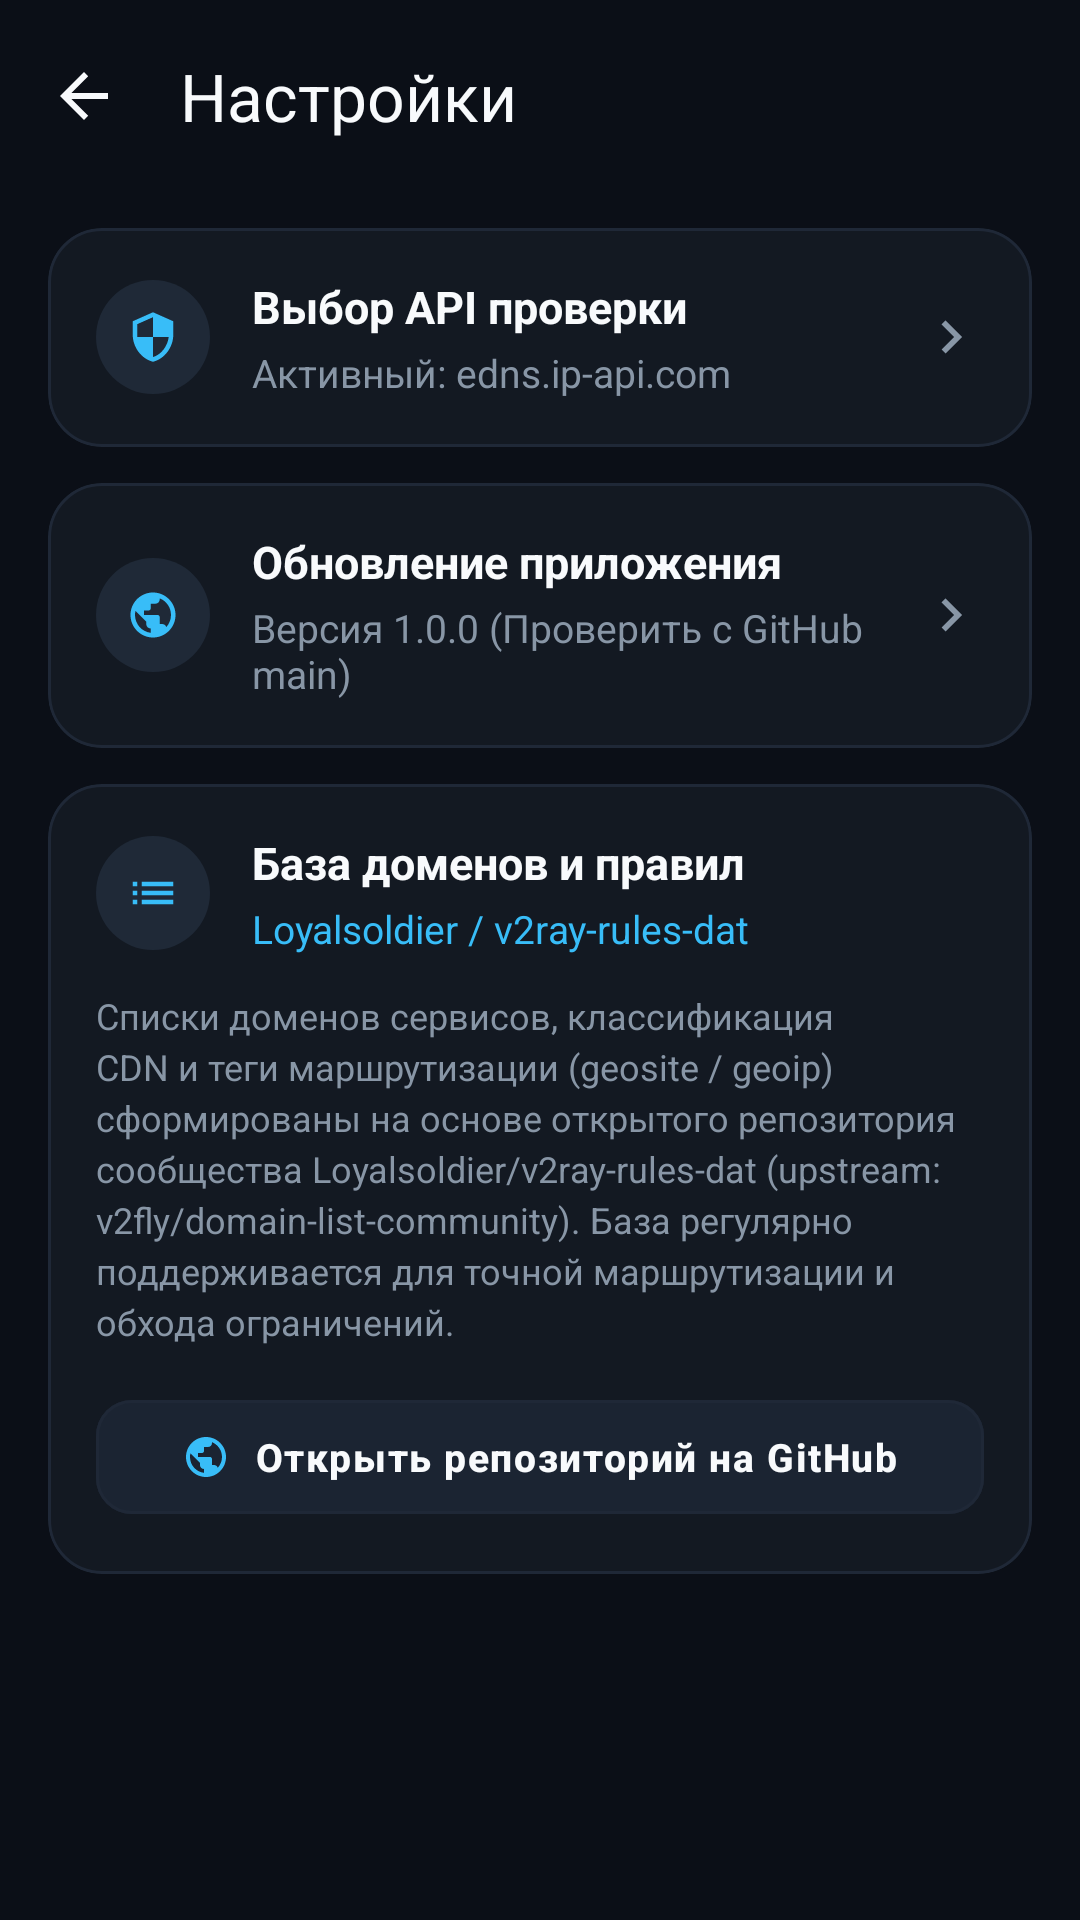

Icons on this 1080w x 1920h Android screen, each with the point to tap as (x,y):
chevron right: (951,337), (951,615)
globe: (153,615)
shield: (153,337)
